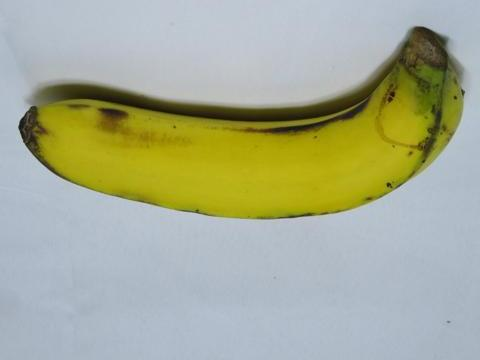freshripe: (16, 21, 468, 227)
